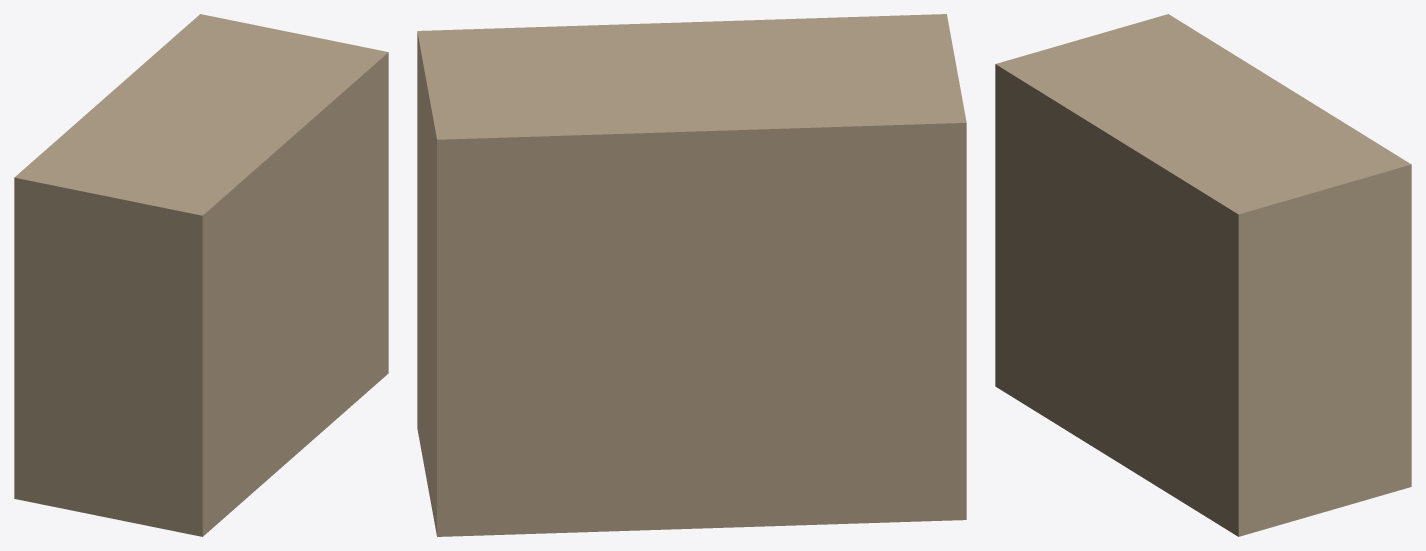
File: bld_164606035.dae
3 views of the same model, side by side, from view 1: azimuth 30°, elevation 25°; view 2: azimuth 150°, elevation 25°; view 3: azimuth 270°, elevation 25° (orthographic). The views are drawn at different scales.
Visible parts, largest first — view 1: bld_164606035; view 2: bld_164606035; view 3: bld_164606035.
Boxes of the visible parts, bbox=[...] form: bld_164606035: bbox=[14, 14, 388, 536]; bld_164606035: bbox=[417, 14, 966, 536]; bld_164606035: bbox=[995, 14, 1411, 536].
Size of the model in its own units: 10.67 by 9.36 by 8.
